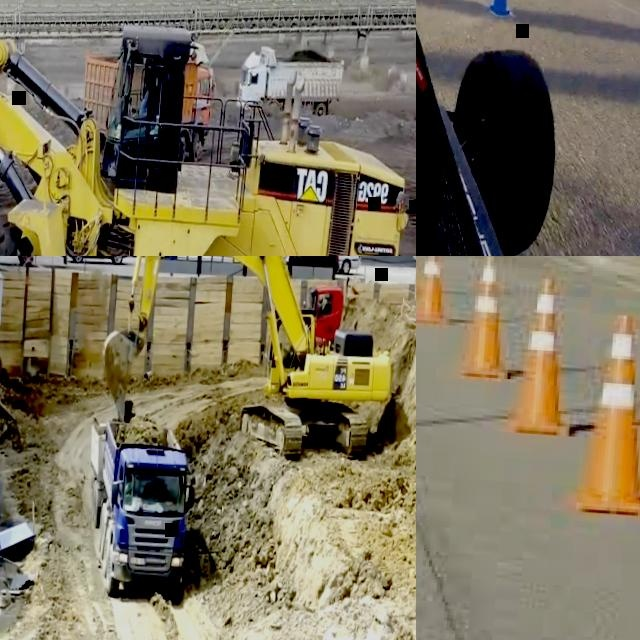NO-Hardhat: (143, 67, 152, 78)
NO-Mask: (142, 80, 150, 89)
NO-Safety Vest: (138, 91, 149, 120)
Person: (124, 65, 152, 135), (124, 476, 137, 496)
Safety Cone: (568, 311, 640, 513), (508, 275, 572, 437), (454, 256, 512, 377), (416, 256, 453, 329), (485, 0, 519, 25)
Safety Vest: (125, 481, 131, 495)
machinery: (0, 0, 416, 256), (94, 256, 406, 467), (79, 397, 203, 603), (73, 27, 219, 164), (235, 39, 346, 123), (300, 283, 345, 349)
vehicle: (416, 0, 599, 256), (283, 256, 341, 280), (318, 256, 363, 274), (67, 256, 132, 266)
